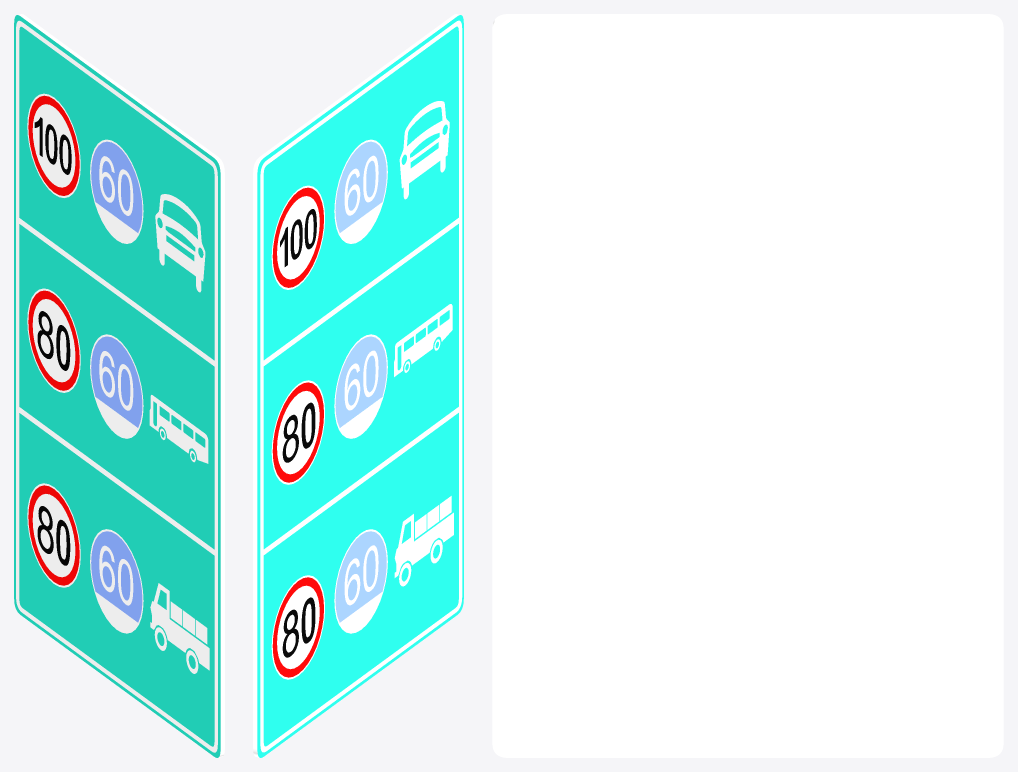
The model's file is Combined_Speed_Limit_Sign_1.glb.
3 renders of one model, left to right at view 1: azimuth 30°, elevation 25°; view 2: azimuth 150°, elevation 25°; view 3: azimuth 270°, elevation 25°, orthographic. The views are drawn at different scales.
Parts seen in each view (by area): view 1: Combined_Speed_Limit_Sign_1; view 2: Combined_Speed_Limit_Sign_1; view 3: Combined_Speed_Limit_Sign_1.
Part boxes in pixels (x1=…): Combined_Speed_Limit_Sign_1: x1=14, y1=14, x2=224, y2=757; Combined_Speed_Limit_Sign_1: x1=253, y1=14, x2=463, y2=757; Combined_Speed_Limit_Sign_1: x1=492, y1=14, x2=1003, y2=757.
Size of the model in its own units: 0.0369 by 4 by 2.5.
